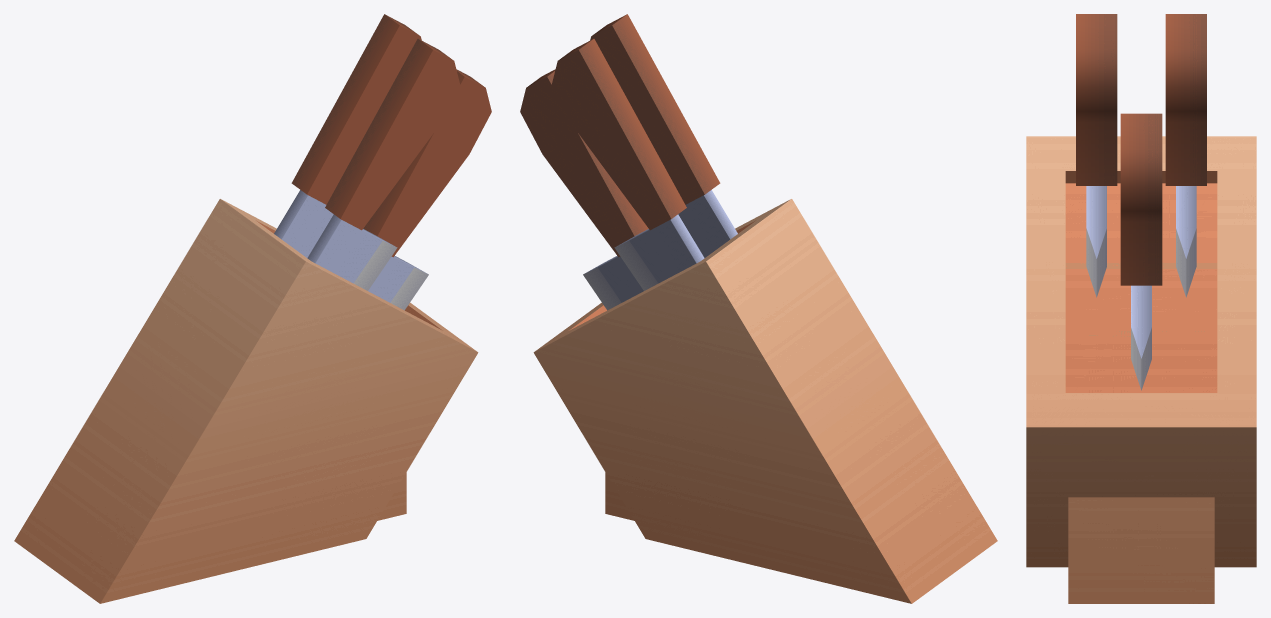
Rendered from knife-block.glb.
3 renders of one model, left to right at view 1: azimuth 30°, elevation 25°; view 2: azimuth 150°, elevation 25°; view 3: azimuth 270°, elevation 25°, orthographic. The views are drawn at different scales.
Parts seen in each view (by area): view 1: knife-block, cooking-knife (×3); view 2: knife-block, cooking-knife (×3); view 3: knife-block, cooking-knife (×3).
Boxes of the visible parts, x1,y1,x2,y2 form: knife-block: (14,199,478,603); cooking-knife (×3): (274,14,491,310); knife-block: (533,199,997,603); cooking-knife (×3): (520,14,737,310); knife-block: (1026,136,1256,603); cooking-knife (×3): (1076,14,1206,390).
Size of the model in its own units: 0.6359 by 0.6624 by 0.2218.
1 material, 1 textured.
